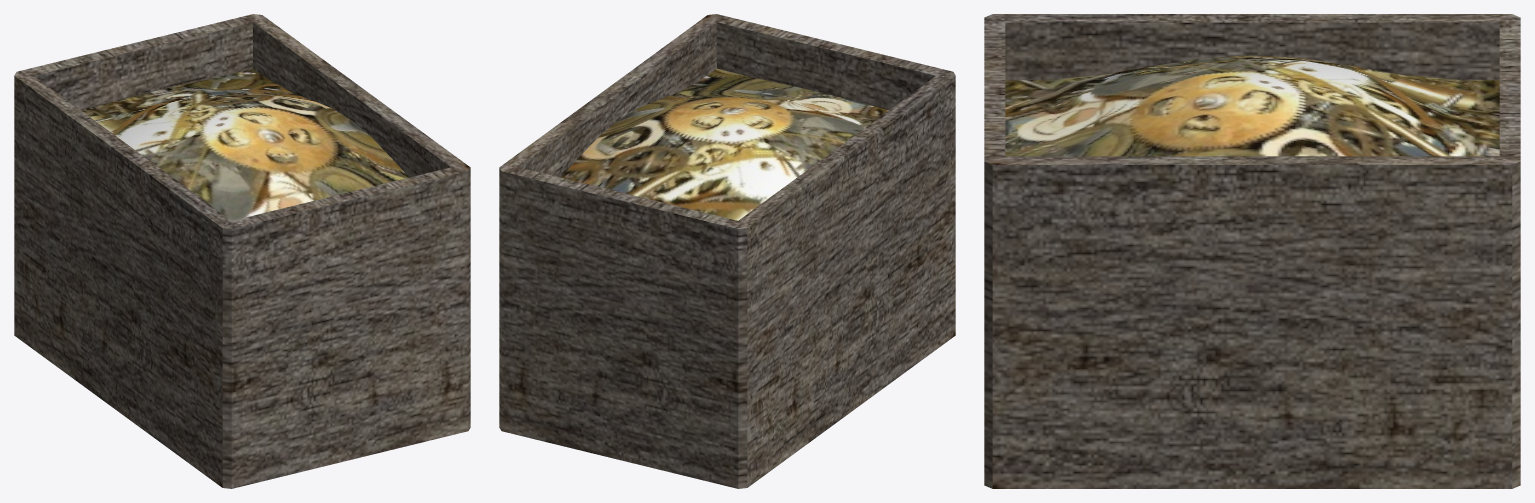
Rendered from gubs.fbx.
3 views of the same model, side by side, from view 1: azimuth 30°, elevation 25°; view 2: azimuth 150°, elevation 25°; view 3: azimuth 270°, elevation 25° (orthographic). The views are drawn at different scales.
Visible parts, largest first — view 1: gear_box; view 2: gear_box; view 3: gear_box.
Part boxes in pixels (left/top/right/bottom): gear_box: left=14, top=14, right=470, bottom=488; gear_box: left=499, top=14, right=955, bottom=488; gear_box: left=984, top=14, right=1520, bottom=488.
Size of the model in its own units: 0.02 by 0.03 by 0.0201.
1 material, 1 textured.
